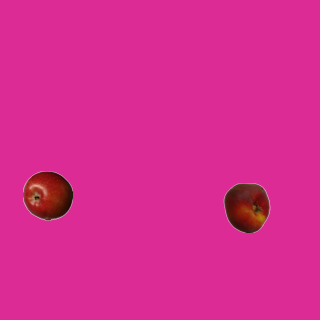Apple Braeburn: (22, 170, 72, 220)
Nectarine Flat: (221, 182, 271, 232)
